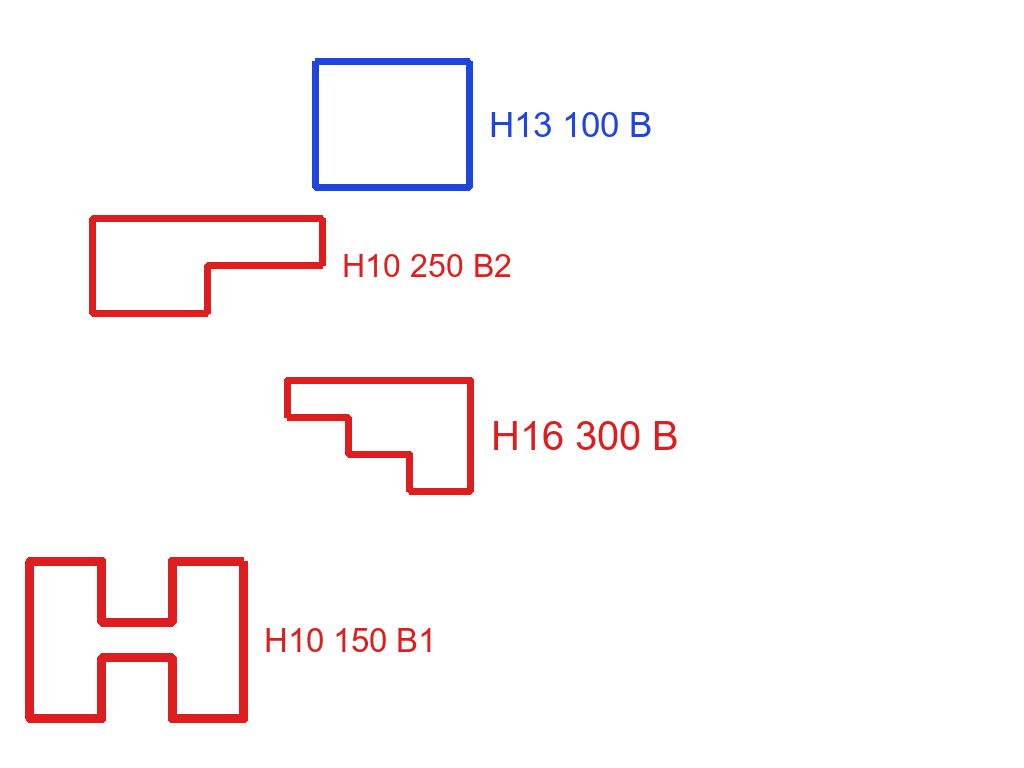shape: (23, 555, 250, 725), (87, 213, 328, 319), (282, 375, 476, 497), (310, 56, 475, 193)
text: (489, 419, 681, 452), (262, 626, 438, 654), (487, 110, 654, 139), (340, 252, 514, 279)
